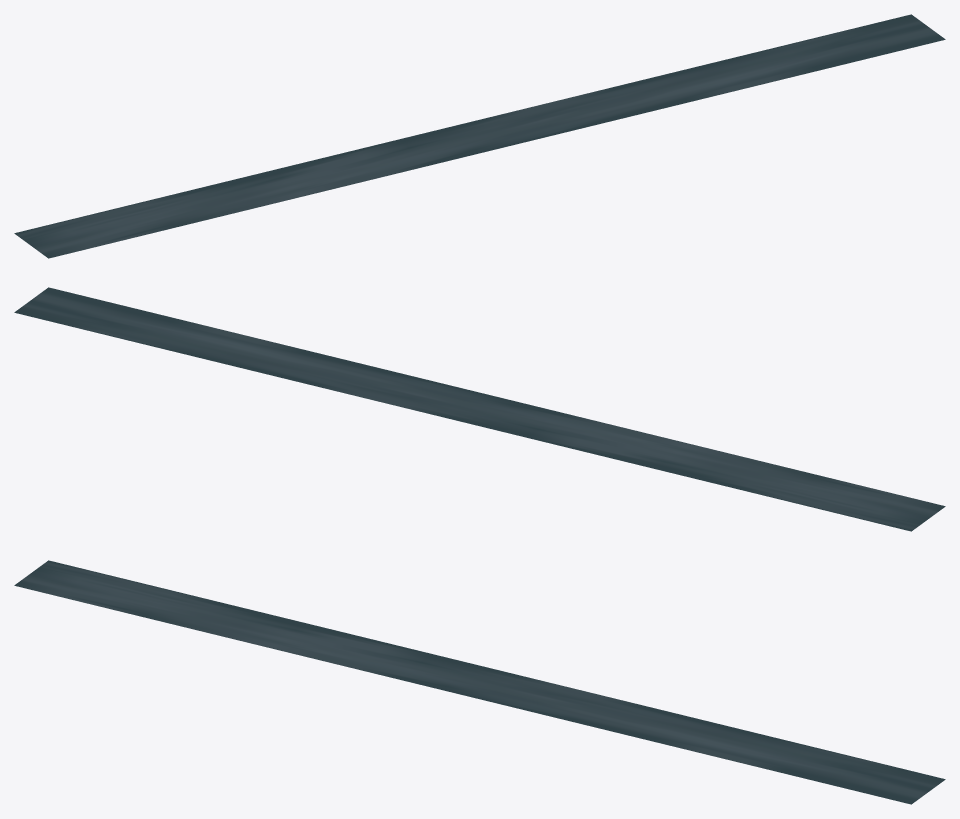
The model's file is FONDO OLAS.glb.
The picture shows the model from 3 angles, top to bottom: view 1: azimuth 30°, elevation 25°; view 2: azimuth 150°, elevation 25°; view 3: azimuth 330°, elevation 25°; orthographic projection.
Visible parts, largest first — view 1: Plane; view 2: Plane; view 3: Plane.
Boxes of the visible parts, bbox=[...] form: Plane: bbox=[14, 14, 945, 258]; Plane: bbox=[14, 287, 945, 531]; Plane: bbox=[14, 560, 945, 804].
Bounding box in the file's own units: 150 × 0 × 10.
